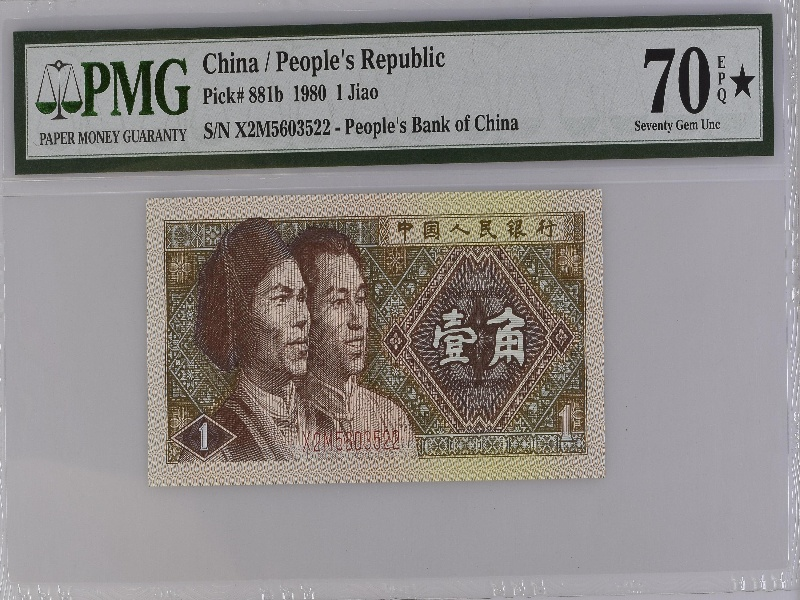papernote: (142, 188, 612, 485)
